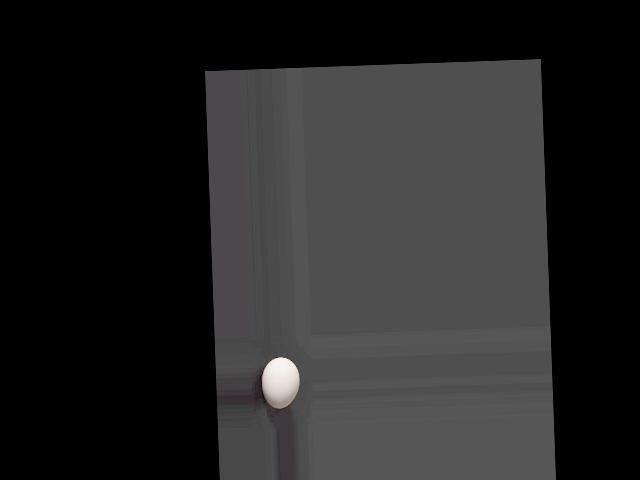egg: (261, 355, 300, 408)
